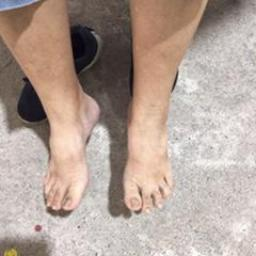Dorsal View -Both Feet-: (27, 78, 178, 221)
